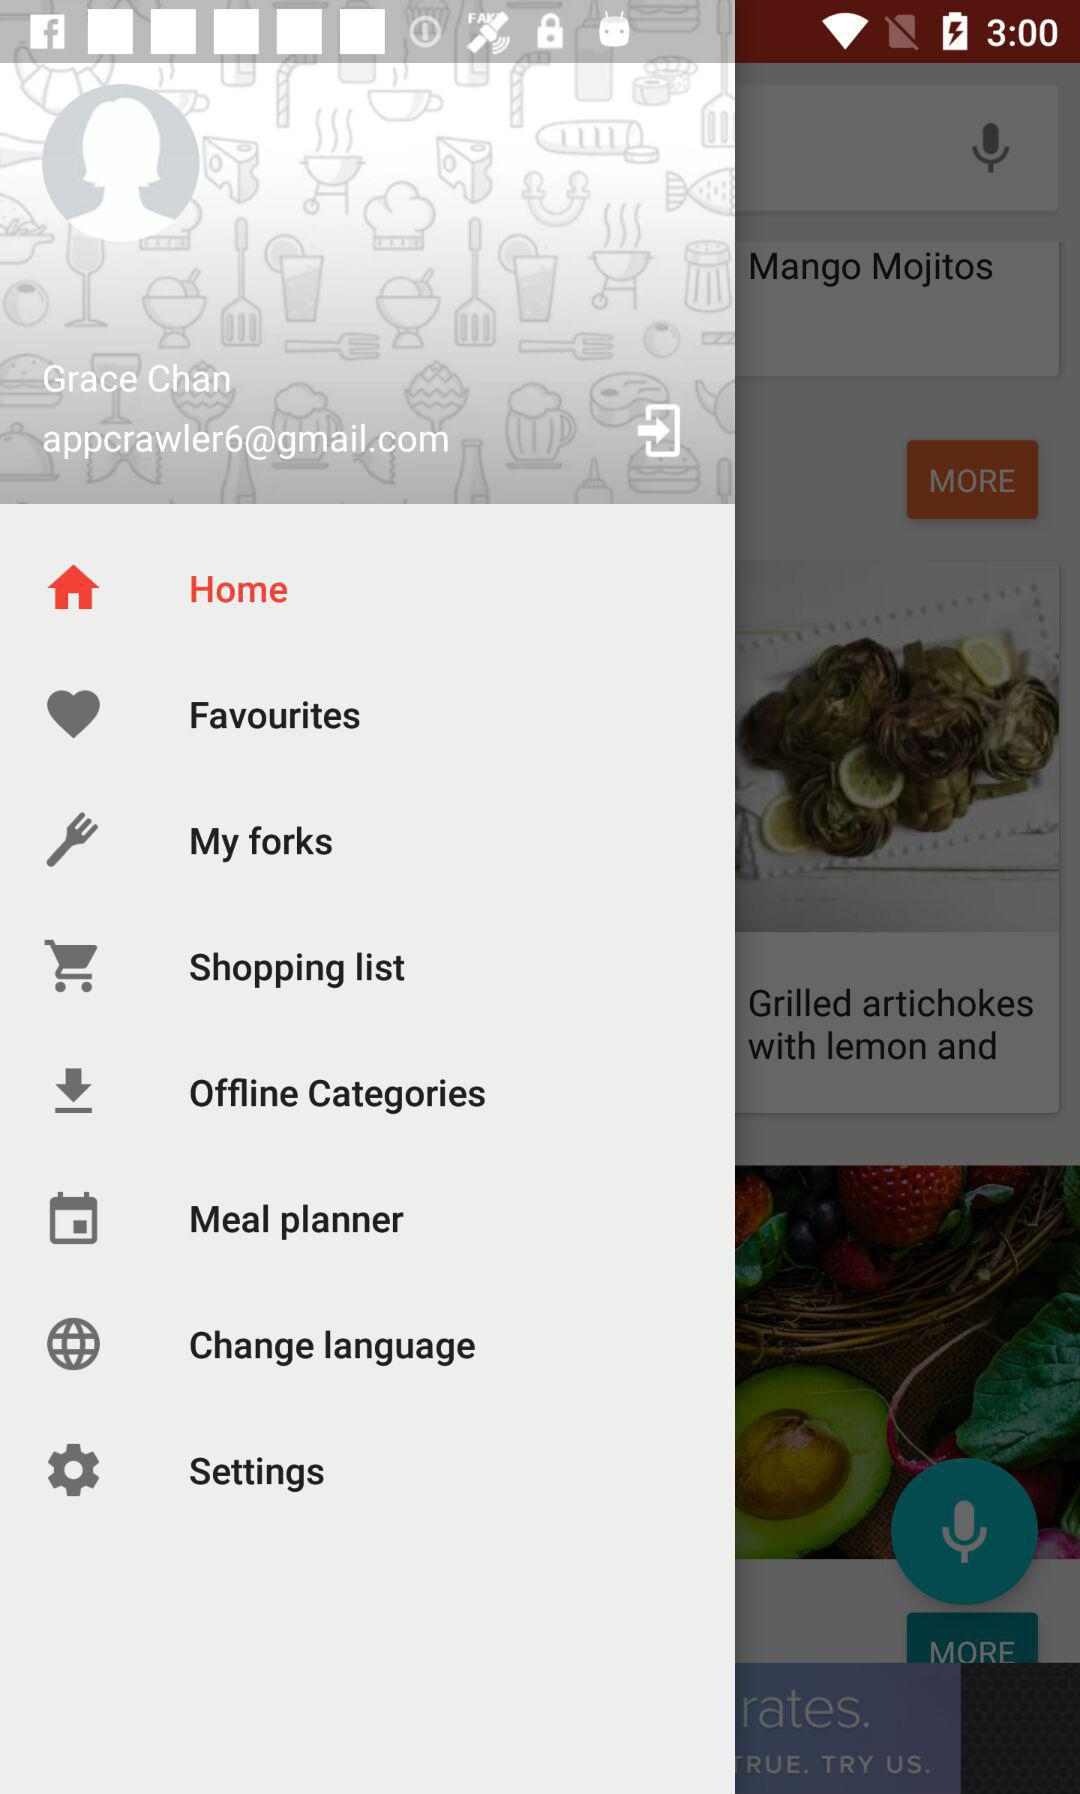Drawer: (1, 64, 735, 1794)
Icon: (42, 85, 202, 243), (44, 937, 99, 994), (47, 1442, 102, 1497), (45, 689, 102, 741), (49, 1190, 100, 1246), (47, 563, 101, 613), (637, 402, 682, 457), (53, 1067, 97, 1115)
Image: (3, 64, 734, 505), (45, 810, 100, 868), (47, 1316, 102, 1372)
Text: (41, 420, 448, 463), (190, 1076, 486, 1116), (190, 1329, 477, 1369), (188, 951, 407, 991), (191, 1202, 405, 1240), (41, 363, 232, 396), (191, 824, 334, 864), (190, 701, 361, 732), (190, 1456, 325, 1493), (190, 575, 290, 605)
UpperTaskBar: (1, 1, 1080, 64)
